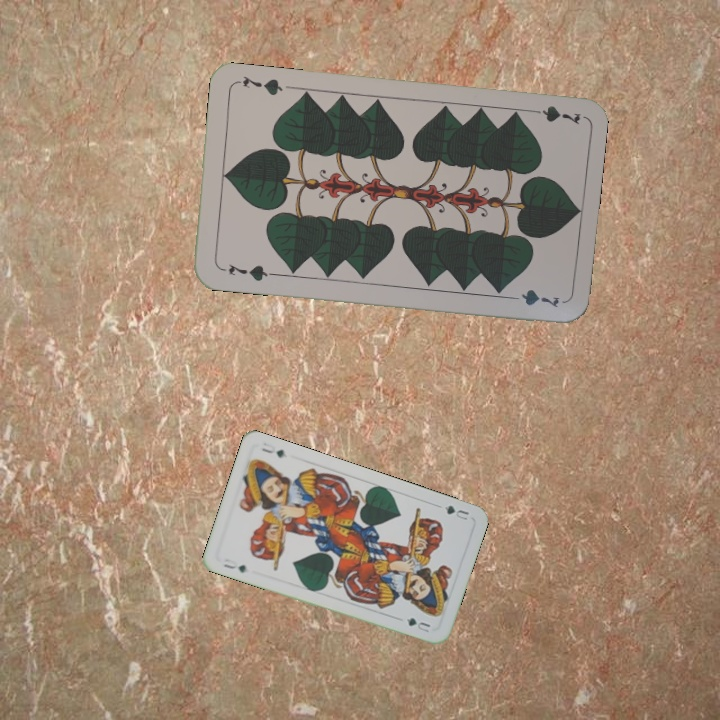G7: (523, 102, 582, 127), (224, 260, 275, 284)
GU: (440, 501, 471, 522), (220, 560, 249, 575)
